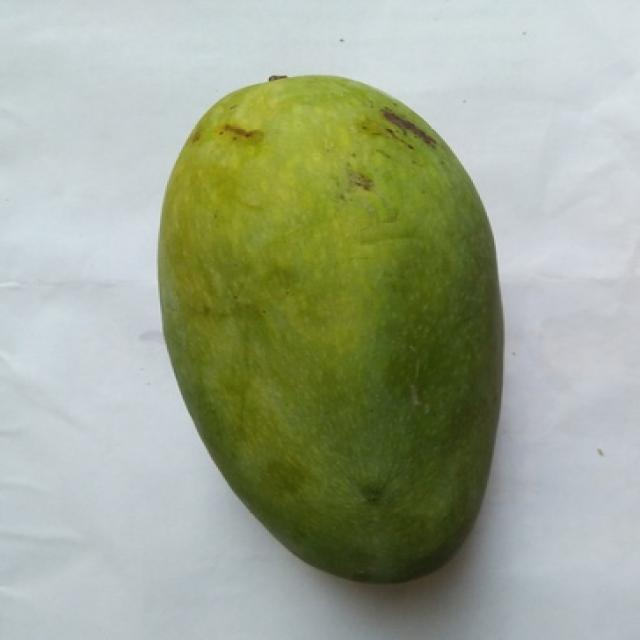Mango: (158, 76, 501, 581)
